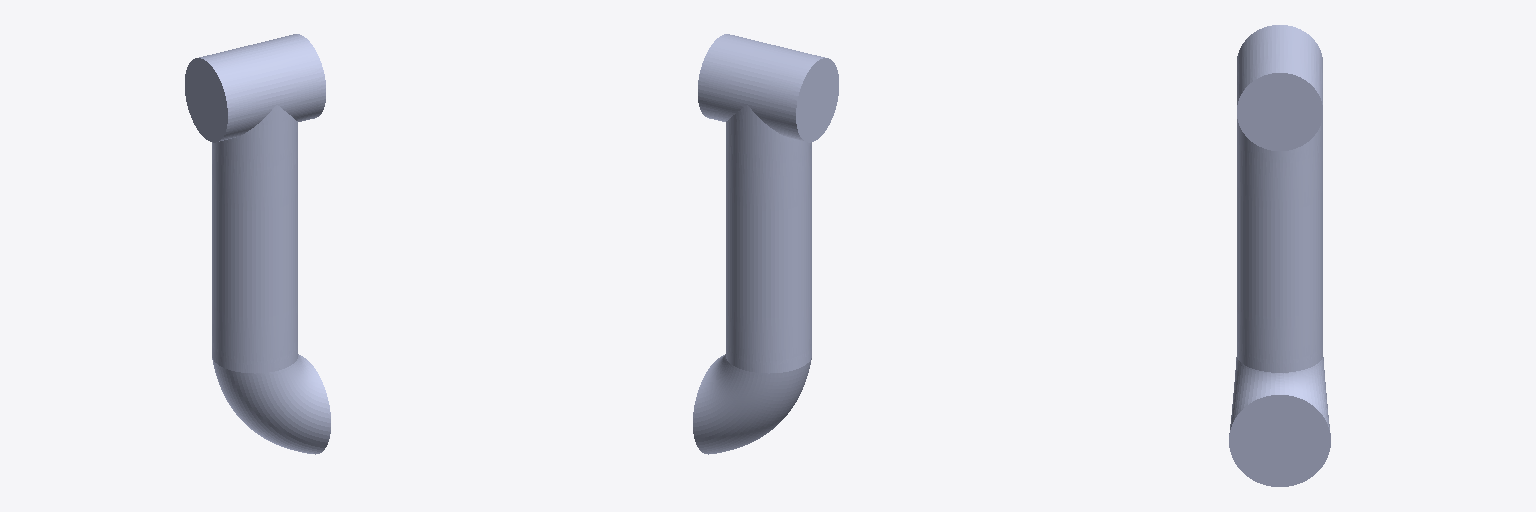
The picture shows the model from 3 angles: view 1: azimuth 30°, elevation 25°; view 2: azimuth 150°, elevation 25°; view 3: azimuth 270°, elevation 25°; orthographic projection.
Parts seen in each view (by area): view 1: [number redacted]; view 2: [number redacted]; view 3: [number redacted].
Boxes of the visible parts, x1=… form: [number redacted]: x1=185, y1=34, x2=330, y2=454; [number redacted]: x1=693, y1=34, x2=838, y2=454; [number redacted]: x1=1229, y1=25, x2=1330, y2=486.
Bounding box in the file's own units: 0.5359 × 2.13 × 0.4772.